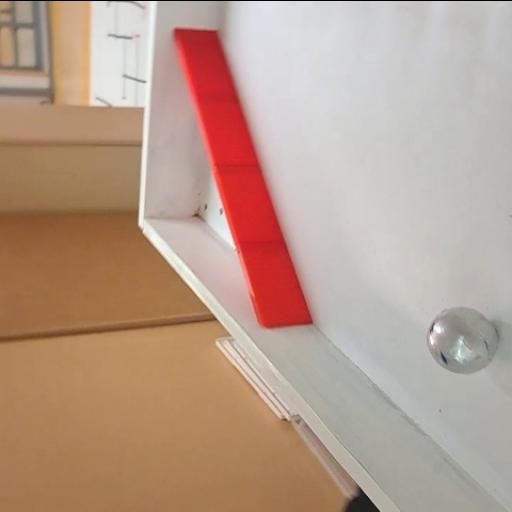alive: (426, 304, 500, 376)
